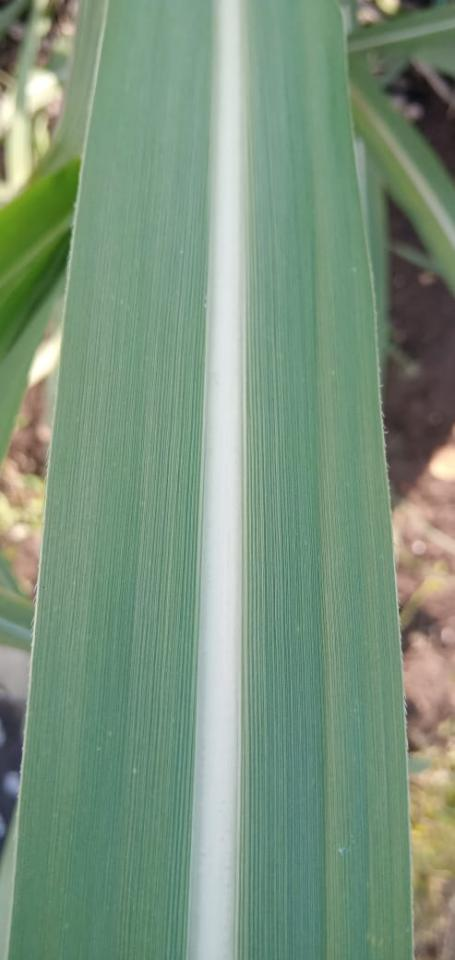Healthy: (9, 0, 214, 959), (240, 0, 414, 959)
